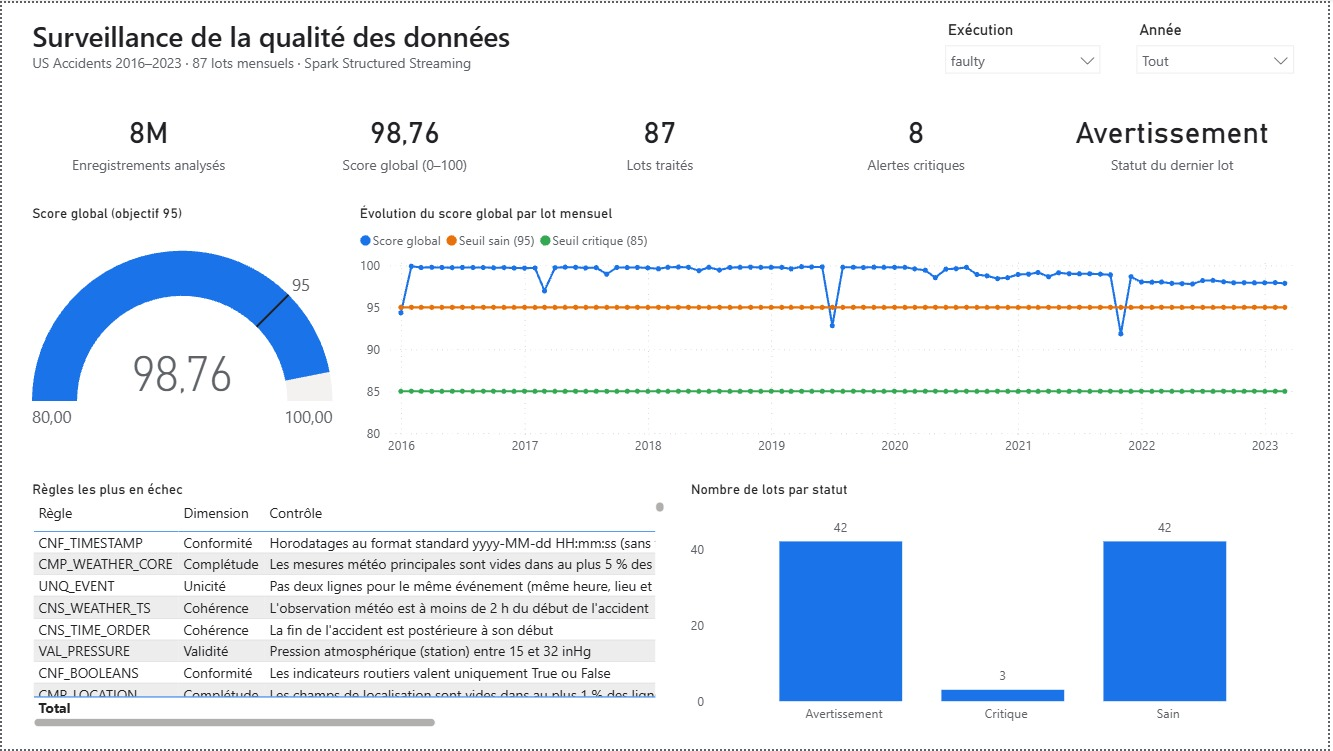

Layout of this report page (visuals, bound fields, positions):
{"tool":"powerbi","page":{"name":"Vue d'ensemble","canvas":[1280,720],"ordinal":0},"visuals":[{"type":"textbox","box":[24,8,860,64],"z":2000},{"type":"slicer","fields":{"Values":["dim_run.run_id"]},"box":[900,12,170,58],"z":3000},{"type":"slicer","fields":{"Values":["dim_batch.Annee"]},"box":[1084,12,172,58],"z":4000},{"type":"card","fields":{"Values":["_Mesures.Enregistrements analysés"]},"box":[24,84,235,96],"z":5000},{"type":"card","fields":{"Values":["_Mesures.Score global"]},"box":[271,84,235,96],"z":6000},{"type":"card","fields":{"Values":["_Mesures.Lots traités"]},"box":[518,84,235,96],"z":7000},{"type":"card","fields":{"Values":["_Mesures.Alertes critiques"]},"box":[765,84,235,96],"z":8000},{"type":"card","fields":{"Values":["_Mesures.Statut dernier lot"]},"box":[1012,84,235,96],"z":9000},{"type":"gauge","title":"Score global (objectif 95)","fields":{"Y":["_Mesures.Score global"],"TargetValue":["_Mesures.Objectif score"]},"box":[24,196,300,250],"z":10000},{"type":"lineChart","title":"Évolution du score global par lot mensuel","fields":{"Category":["dim_batch.Date"],"Y":["_Mesures.Score global","_Mesures.Objectif score","_Mesures.Seuil critique"]},"box":[340,196,916,250],"z":11000},{"type":"tableEx","title":"Règles les plus en échec","fields":{"Values":["fact_rule_result.rule_id","dim_rule.Dimension qualité","dim_rule.description","_Mesures.Erreurs (règles notées)","_Mesures.Taux de conformité"]},"box":[24,462,620,242],"z":12000},{"type":"clusteredColumnChart","title":"Nombre de lots par statut","fields":{"Category":["dim_batch.Statut"],"Y":["_Mesures.Lots traités"]},"box":[660,462,596,242],"z":13000}]}

Visuals, with their boxes in screenshot pixels (x1, y1, x2, y2), scaled from the page's 1280x720 canvas onto the 1333x751 screenshot:
textbox: bbox(25, 8, 921, 75)
slicer - dim_run.run_id: bbox(937, 13, 1114, 73)
slicer - dim_batch.Annee: bbox(1129, 13, 1308, 73)
card - _Mesures.Enregistrements analysés: bbox(25, 88, 270, 188)
card - _Mesures.Score global: bbox(282, 88, 527, 188)
card - _Mesures.Lots traités: bbox(539, 88, 784, 188)
card - _Mesures.Alertes critiques: bbox(797, 88, 1041, 188)
card - _Mesures.Statut dernier lot: bbox(1054, 88, 1299, 188)
"Score global (objectif 95)" gauge: bbox(25, 204, 337, 465)
"Évolution du score global par lot mensuel" lineChart: bbox(354, 204, 1308, 465)
"Règles les plus en échec" tableEx: bbox(25, 482, 671, 734)
"Nombre de lots par statut" clusteredColumnChart: bbox(687, 482, 1308, 734)
